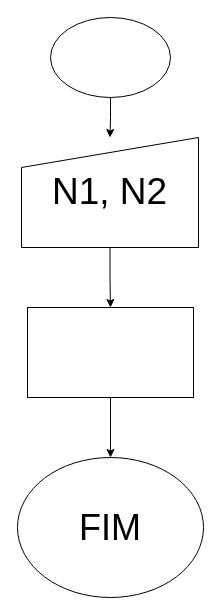
The diagram is 221 pixels wide and 615 high, and some of its shapes have lost their labels. The box of each missing label's shape, as (x1, y1, x2, y2) in pixels:
inicio: (50, 16, 170, 98)
N1+N2: (26, 306, 194, 398)
